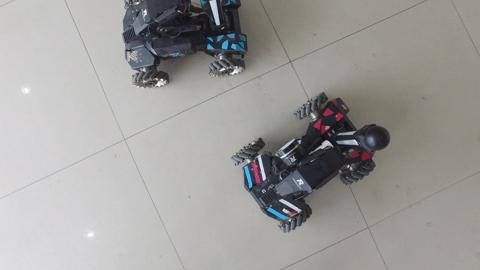chariot: (228, 82, 392, 239), (114, 1, 251, 94)
